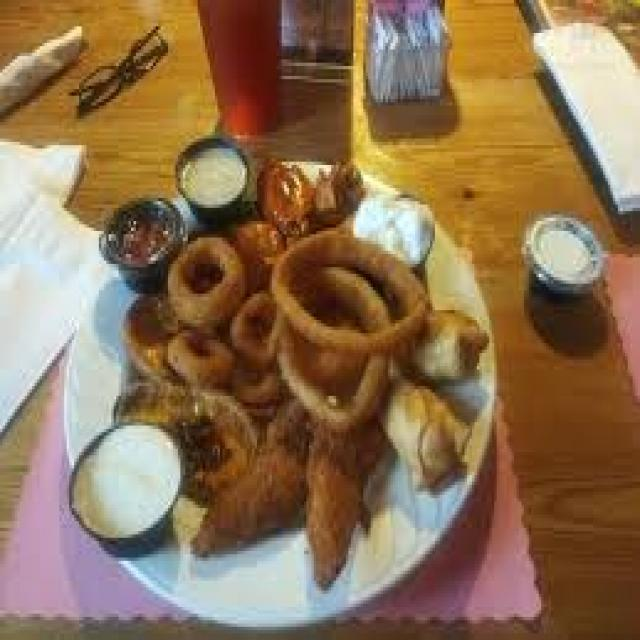Chicken Wings: (138, 382, 390, 590), (250, 142, 358, 211)
Onion Rings: (121, 214, 415, 416)
Spring Rolls: (390, 300, 492, 488)
